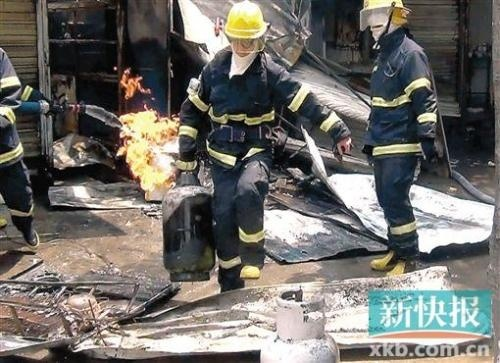fire: (114, 89, 181, 193), (118, 65, 150, 97)
